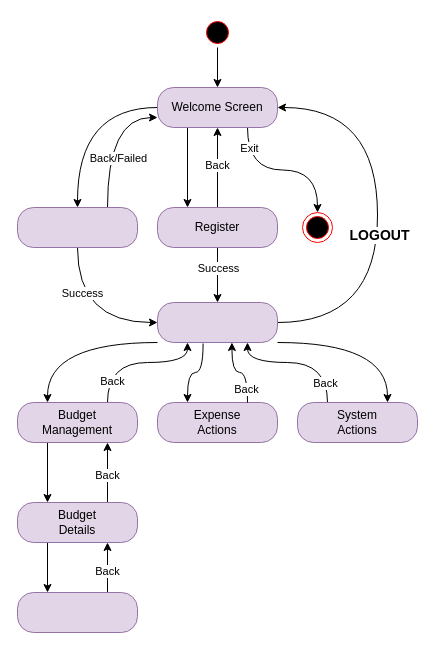
This 435x650 diagram has some shape labels left out. The shapes that lost their labels are listed below. From the top down, each one's centre as x and y in pixels, then its label:
point 77,227: Login
point 217,322: Dashboard
point 77,612: Expense Management
